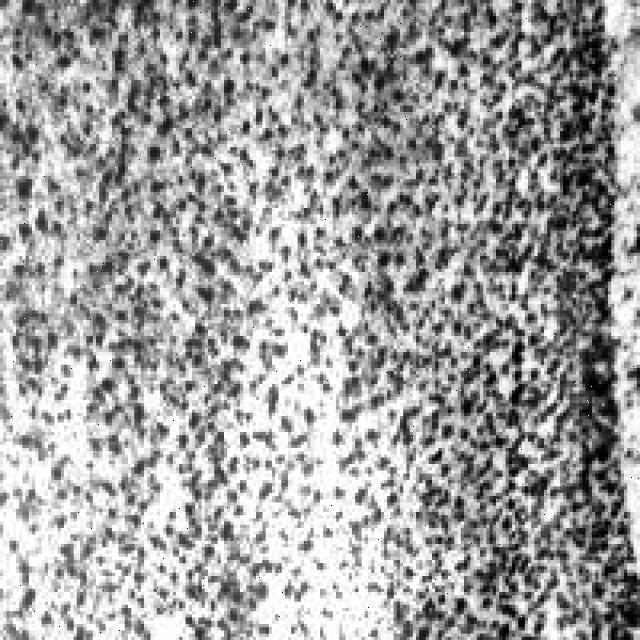Rolled_in_Scale: (13, 0, 640, 637)
